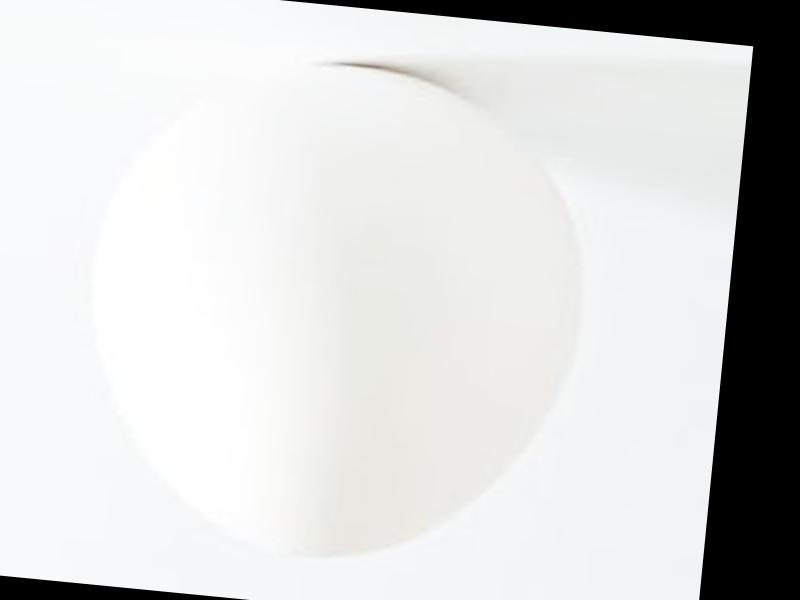Eggs: (69, 42, 598, 583)
